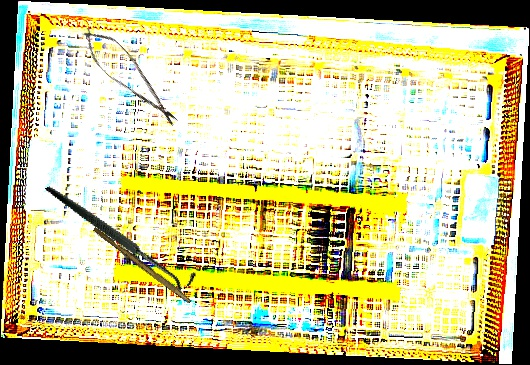Hook Surgical: (44, 144, 200, 325)
Micro Scissor: (73, 19, 188, 134)
Scalpel Handle: (91, 226, 194, 304)
